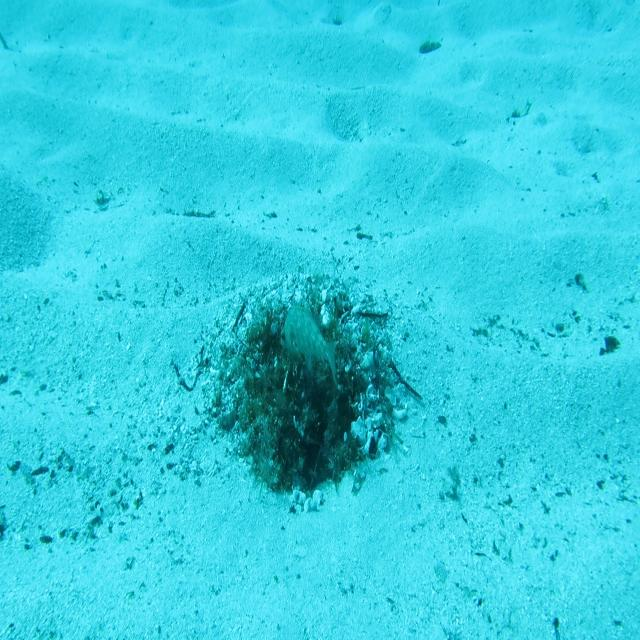NIP_CORE: (278, 299, 339, 392)
core_nest: (273, 322, 327, 368)
nest: (176, 263, 413, 527)
vegetation: (418, 36, 439, 56)
